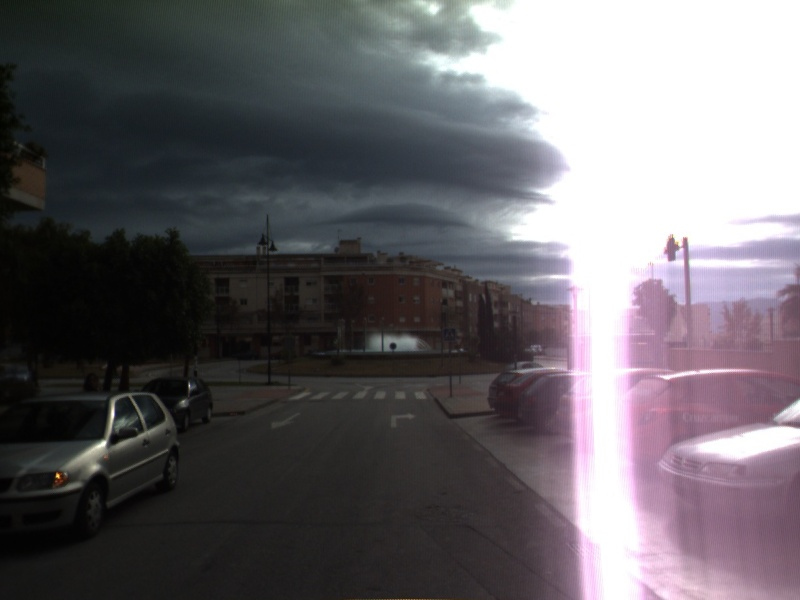RIGHT: (389, 410, 418, 430)
